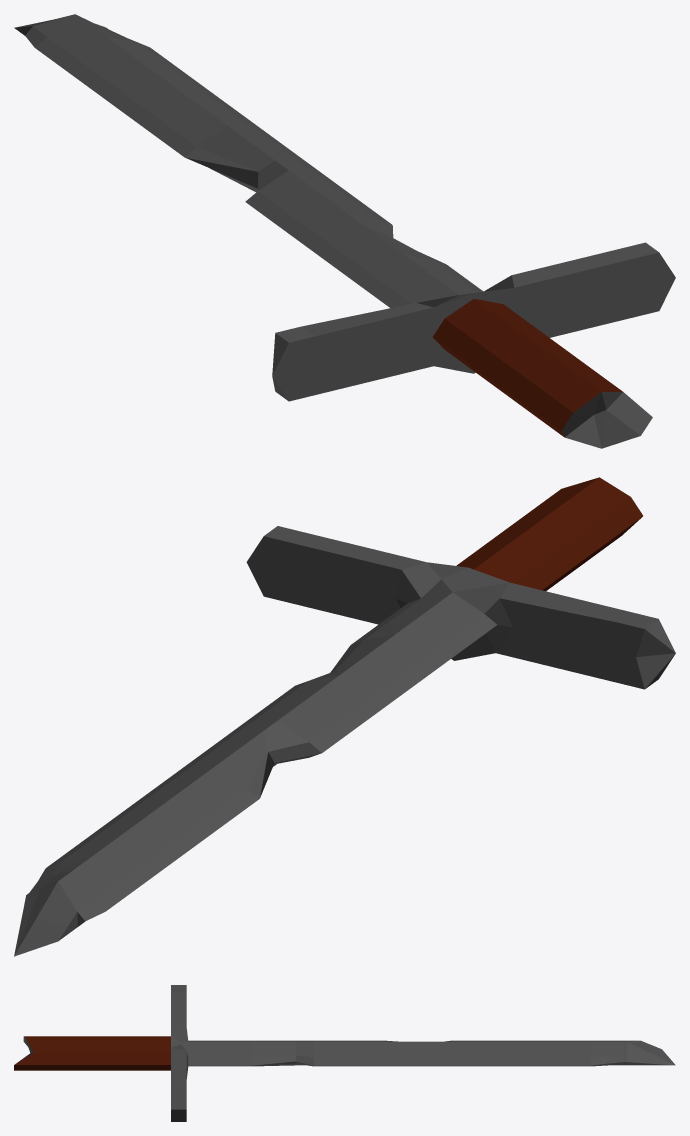
File: broken sword 1.fbx
3 renders of one model, top to bottom at view 1: azimuth 30°, elevation 25°; view 2: azimuth 150°, elevation 25°; view 3: azimuth 270°, elevation 25°, orthographic. The views are drawn at different scales.
Parts seen in each view (by area): view 1: Cylinder; view 2: Cylinder; view 3: Cylinder.
Part boxes in pixels (bbox=[...]): Cylinder: bbox=[14, 14, 675, 448]; Cylinder: bbox=[14, 477, 675, 956]; Cylinder: bbox=[14, 985, 675, 1121].
Size of the model in its own units: 0.2785 by 0.0533 by 0.6917.
